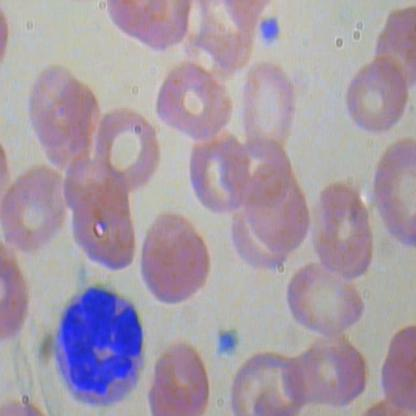Platelets: (257, 10, 283, 51), (214, 326, 239, 362)
RBC: (301, 172, 384, 286), (135, 210, 217, 309), (281, 257, 369, 343), (0, 158, 76, 256), (154, 56, 236, 144), (239, 58, 305, 160), (93, 104, 160, 199), (224, 350, 306, 416), (371, 132, 415, 250), (346, 57, 410, 138), (142, 342, 211, 416)
WBC: (51, 277, 155, 411)
